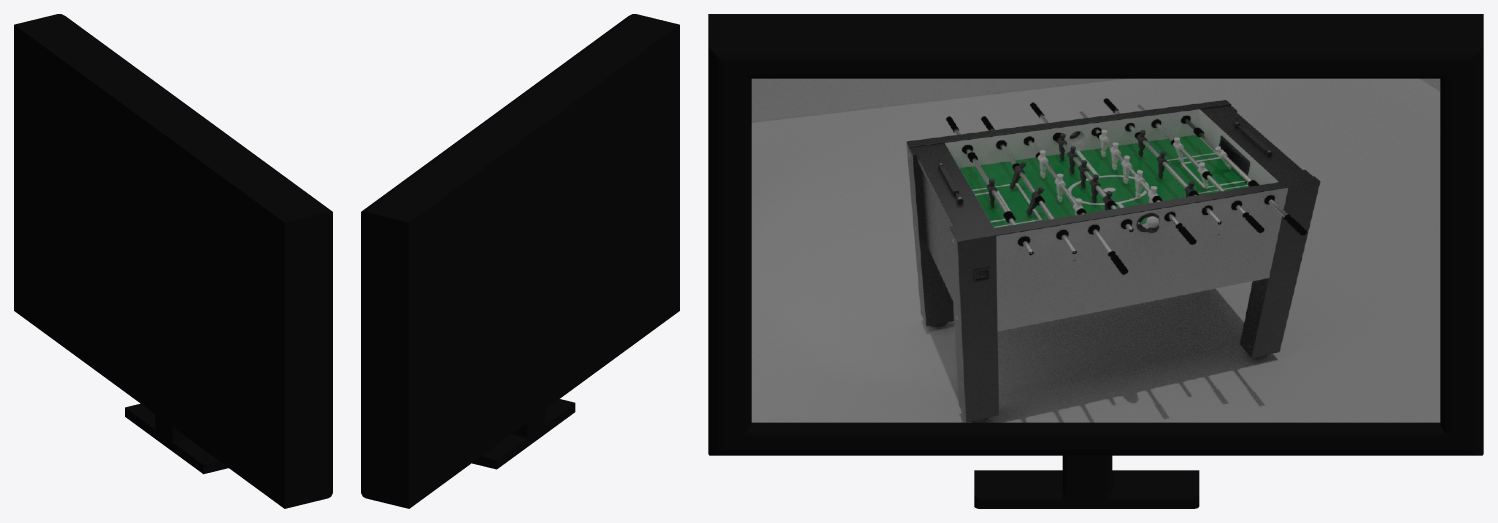
File: video.glb
3 views of the same model, side by side, from view 1: azimuth 30°, elevation 25°; view 2: azimuth 150°, elevation 25°; view 3: azimuth 270°, elevation 25° (orthographic). The views are drawn at different scales.
Visible parts, largest first — view 1: Cube; view 2: Cube; view 3: Cube.
Part boxes in pixels (x1=…): Cube: x1=14, y1=14, x2=332, y2=508; Cube: x1=361, y1=14, x2=679, y2=508; Cube: x1=708, y1=14, x2=1483, y2=508.
Size of the model in its own units: 0.2229 by 1.31 by 2.
Materials: 2 (1 with a texture image).
